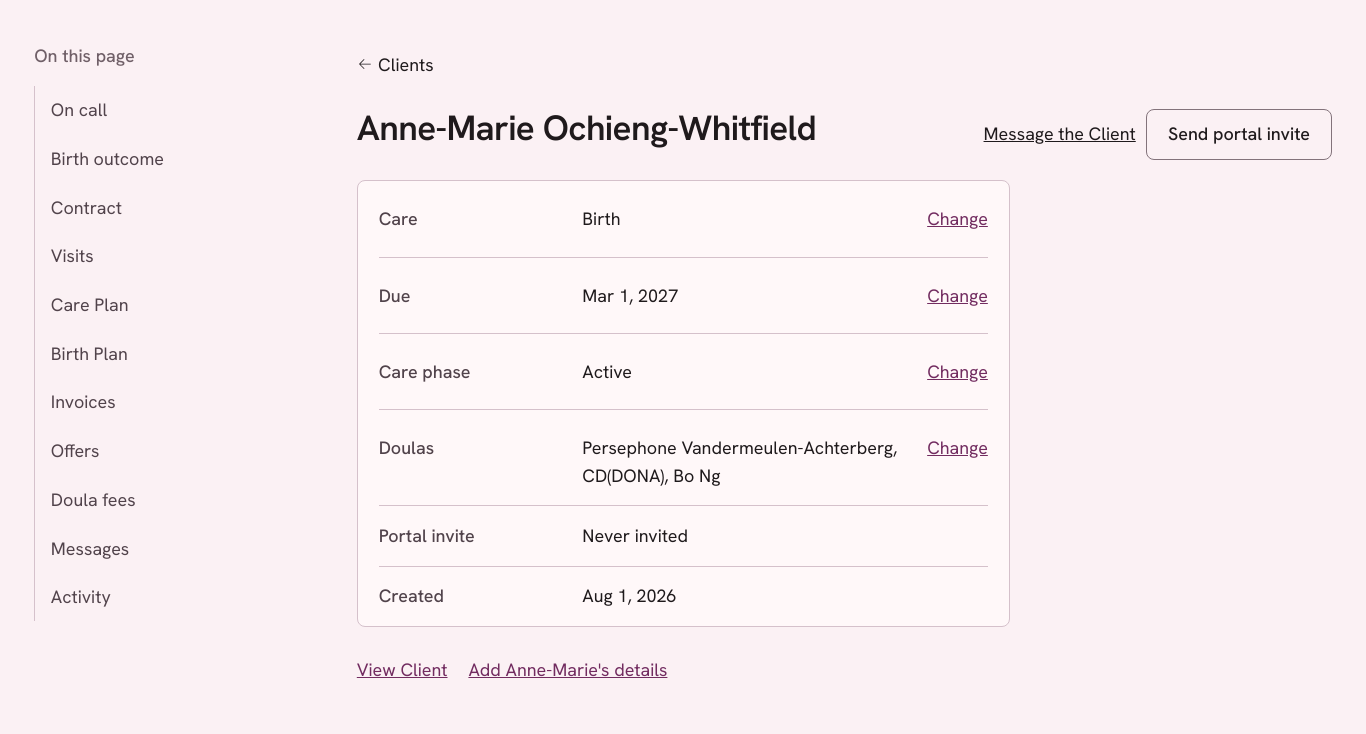
the due date's Change (#2013) › opens the date in three boxes holding the date there now
Click the button "Change" in the row of "Mar 1, 2027".
click(958, 295)  # box [927,273,988,317]
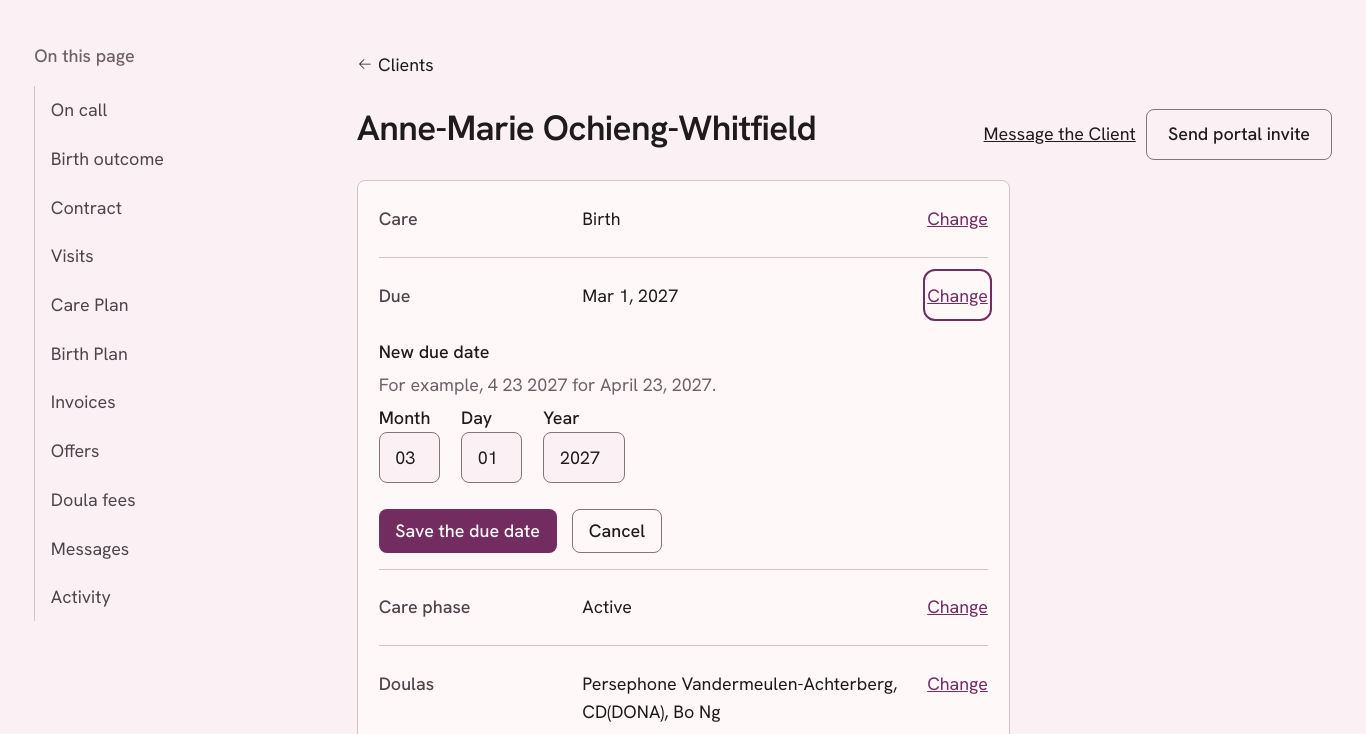
Check: the element "New due date" is shown, box [379,340,716,483]
Check: the field labelled "Month" holds "03", box [379,432,440,483]
Check: the field labelled "Day" holds "01", box [461,432,522,483]
